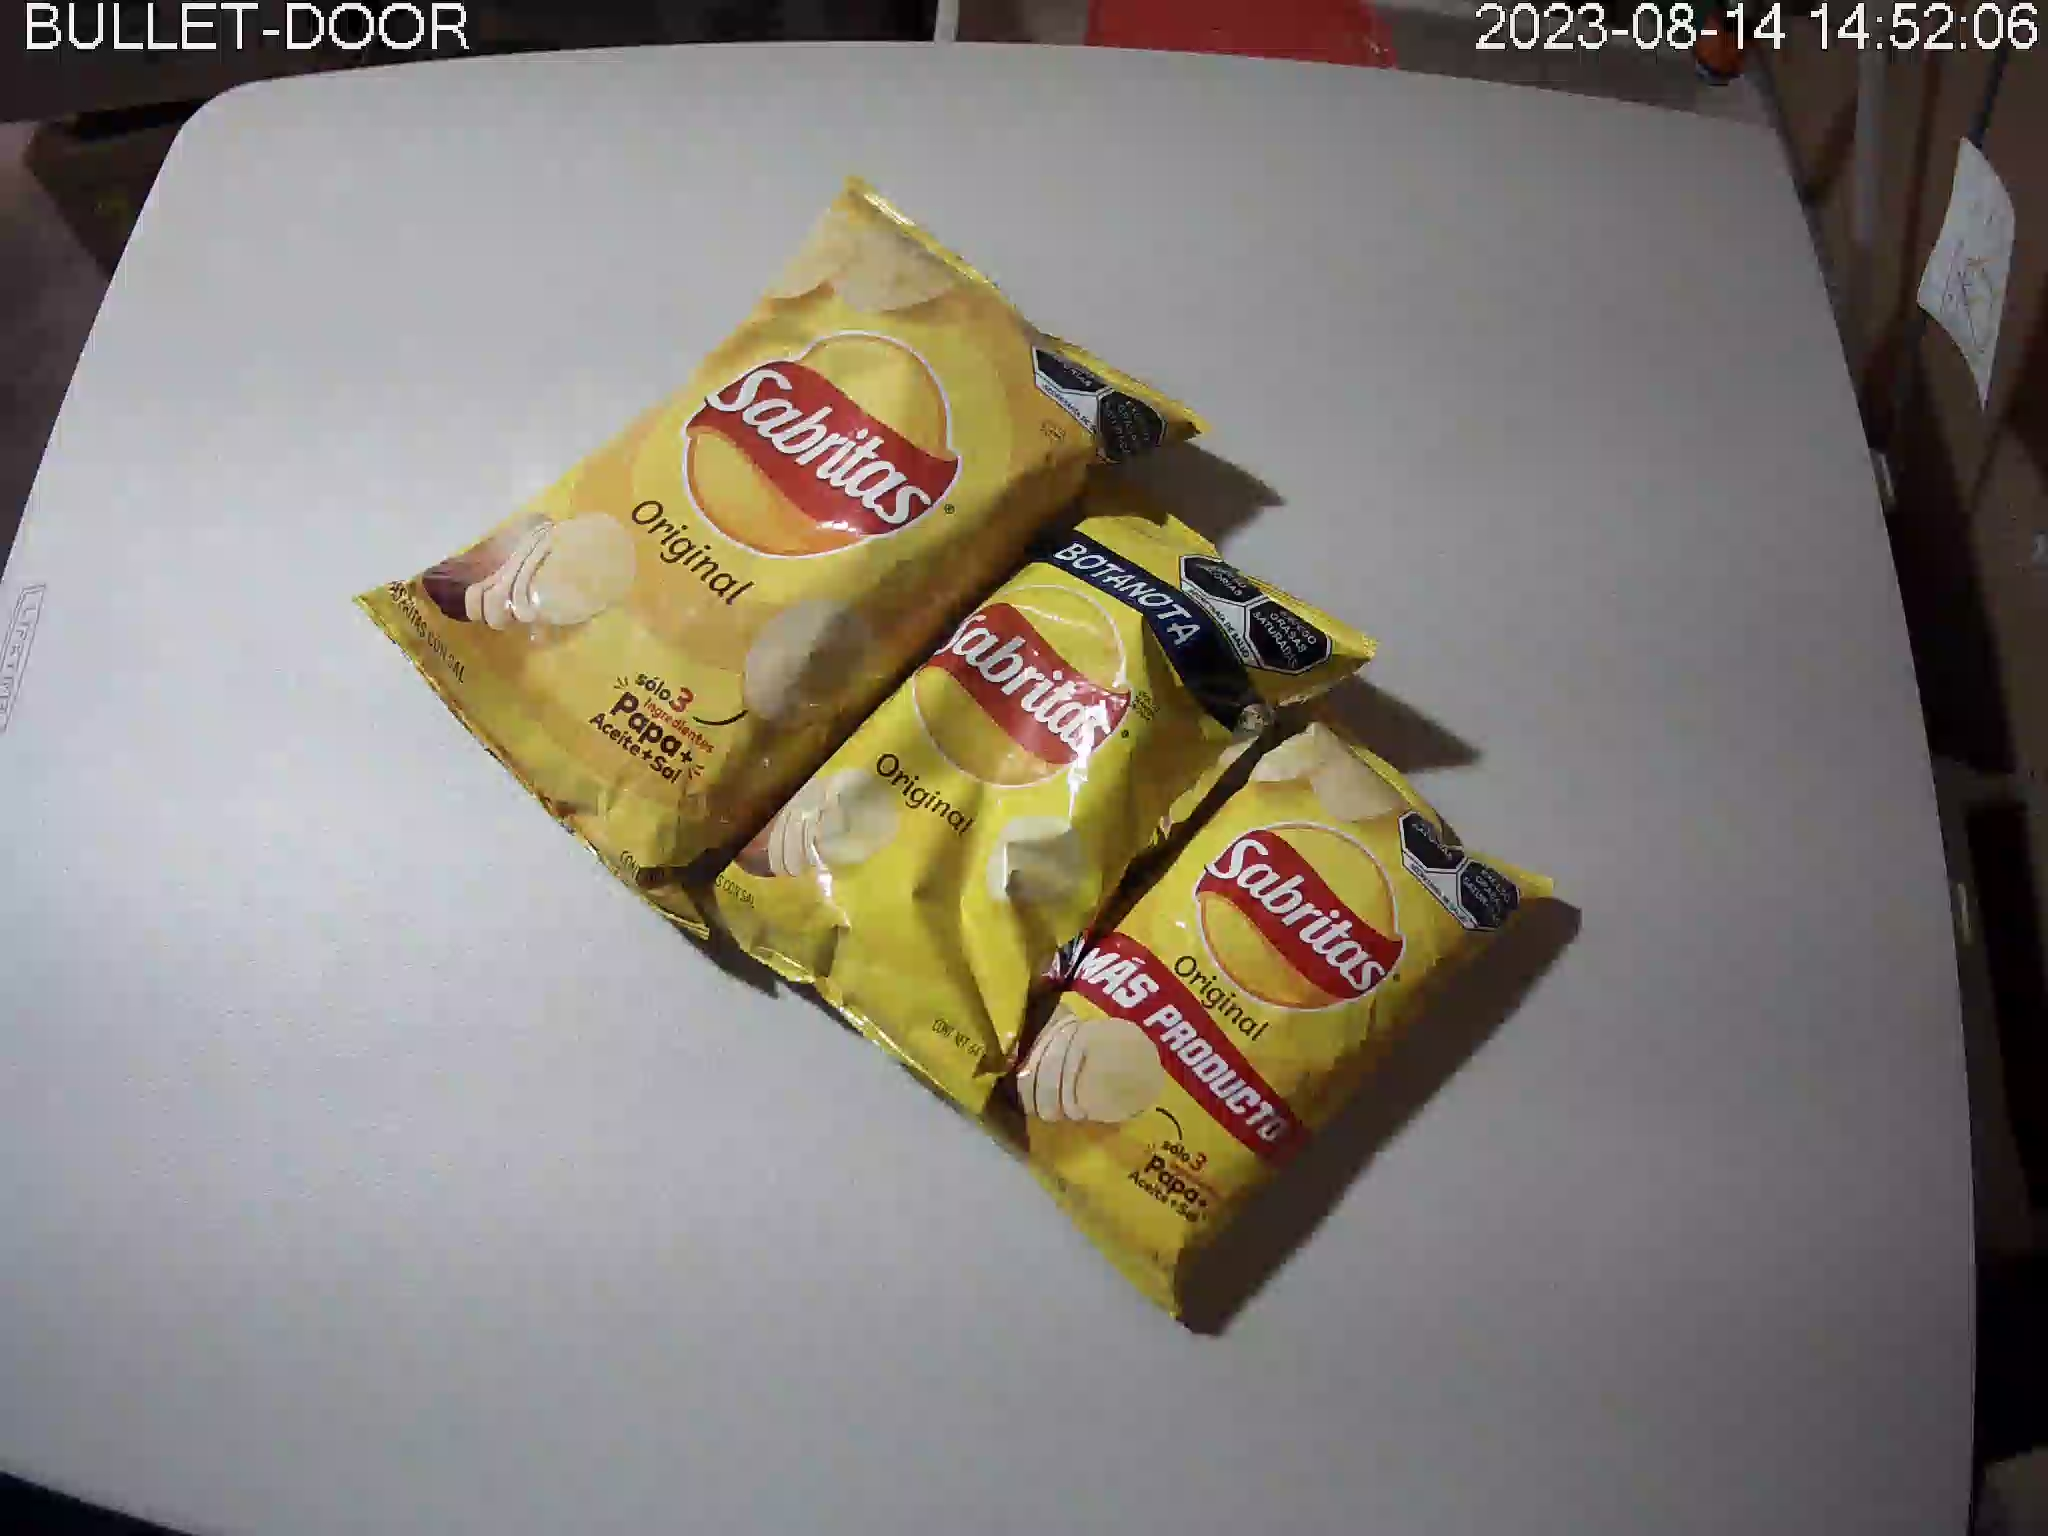Sabritas_160_F: (348, 176, 1213, 942)
Sabritas_45_F: (937, 692, 1558, 1320)
Sabritas_64_F: (669, 474, 1379, 1121)
